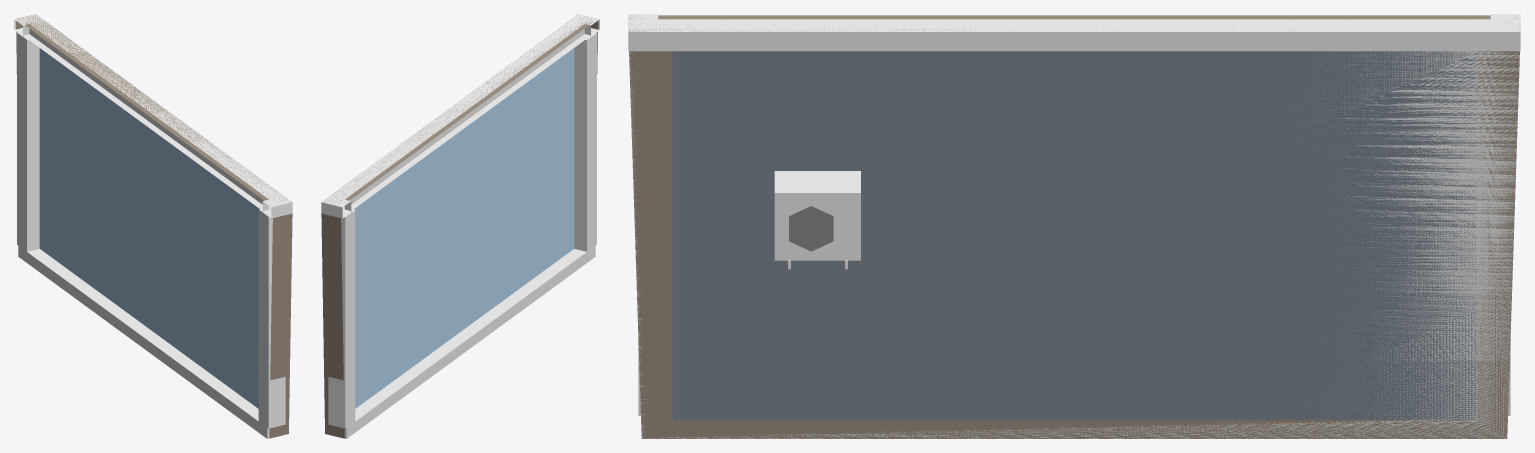
The model's file is si_res_endcap_wall.dae.
3 views of the same model, side by side, from view 1: azimuth 30°, elevation 25°; view 2: azimuth 150°, elevation 25°; view 3: azimuth 270°, elevation 25° (orthographic). The views are drawn at different scales.
Parts seen in each view (by area): view 1: si_res_endcap_wall_a500, si_res_endcap_wall_a100, si_res_endcap_wall_a10; view 2: si_res_endcap_wall_a500, si_res_endcap_wall_a100, si_res_endcap_wall_a10; view 3: si_res_endcap_wall_a10, Colmesh-1, si_res_endcap_wall_a500, si_res_endcap_wall_a100.
Boxes of the visible parts, x1,y1,x2,y2 form: si_res_endcap_wall_a500: (14,15,291,438); si_res_endcap_wall_a100: (14,14,292,438); si_res_endcap_wall_a10: (16,14,292,438); si_res_endcap_wall_a500: (322,14,599,438); si_res_endcap_wall_a100: (321,14,599,438); si_res_endcap_wall_a10: (321,14,597,438); si_res_endcap_wall_a10: (628,15,1520,438); Colmesh-1: (629,51,1519,438); si_res_endcap_wall_a500: (629,14,1519,414); si_res_endcap_wall_a100: (628,14,1520,415).
Size of the model in its own units: 0.6823 by 6.26 by 3.15.
